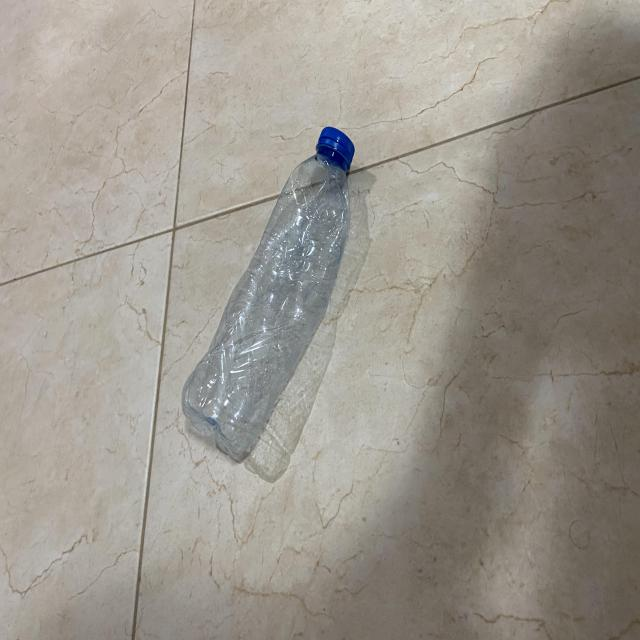bottle: (178, 117, 355, 475)
